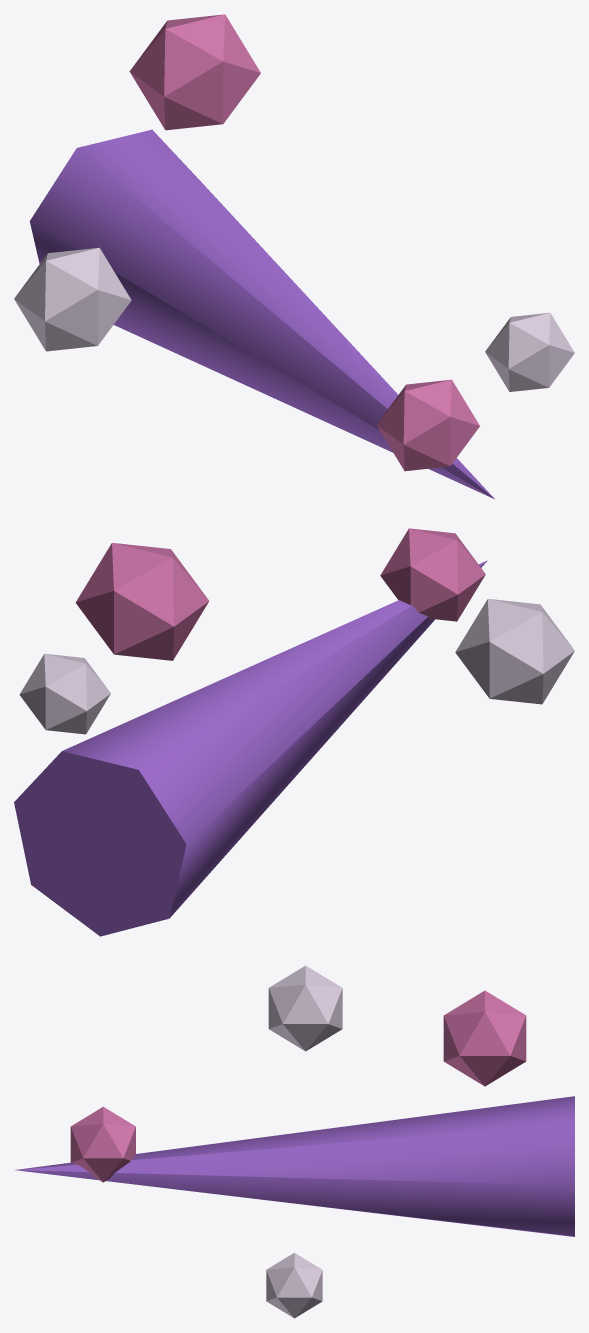
The model's file is thrown.glb.
3 views of the same model, one above another, from view 1: azimuth 30°, elevation 25°; view 2: azimuth 150°, elevation 25°; view 3: azimuth 270°, elevation 25° (orthographic). The views are drawn at different scales.
Parts seen in each view (by area): view 1: thrown_trail, thrown_spark_3, thrown_spark_2, thrown_spark_1, thrown_spark_0; view 2: thrown_trail, thrown_spark_3, thrown_spark_2, thrown_spark_1, thrown_spark_0; view 3: thrown_trail, thrown_spark_3, thrown_spark_2, thrown_spark_1, thrown_spark_0.
Part boxes in pixels (left/top/right/bottom): thrown_trail: left=29, top=129, right=494, bottom=499; thrown_spark_3: left=129, top=14, right=260, bottom=130; thrown_spark_2: left=14, top=247, right=131, bottom=351; thrown_spark_1: left=376, top=379, right=479, bottom=471; thrown_spark_0: left=485, top=312, right=574, bottom=391; thrown_trail: left=14, top=560, right=487, bottom=936; thrown_spark_3: left=75, top=542, right=208, bottom=660; thrown_spark_2: left=455, top=599, right=574, bottom=704; thrown_spark_1: left=380, top=528, right=485, bottom=621; thrown_spark_0: left=19, top=653, right=110, bottom=734; thrown_trail: left=15, top=1096, right=574, bottom=1236; thrown_spark_3: left=443, top=990, right=526, bottom=1086; thrown_spark_2: left=268, top=965, right=342, bottom=1051; thrown_spark_1: left=70, top=1106, right=135, bottom=1182; thrown_spark_0: left=266, top=1253, right=322, bottom=1318.
Size of what is drawn, in the model's own units: 1.75 by 1.05 by 2.2.
